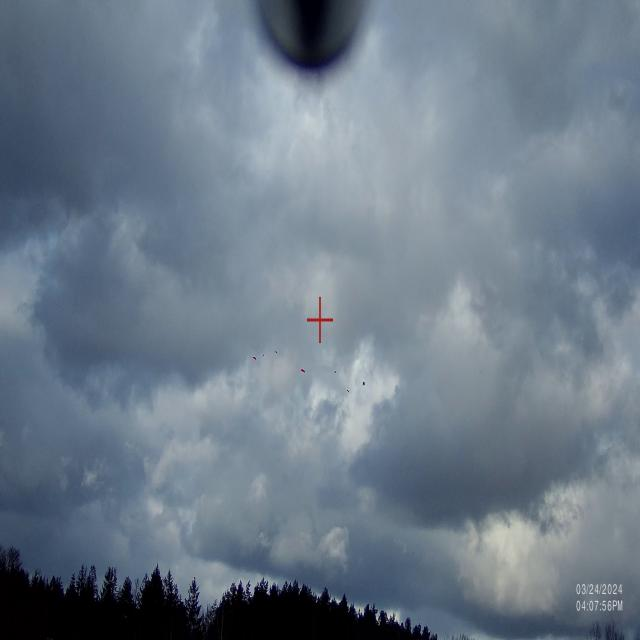broken: (235, 327, 388, 454)
